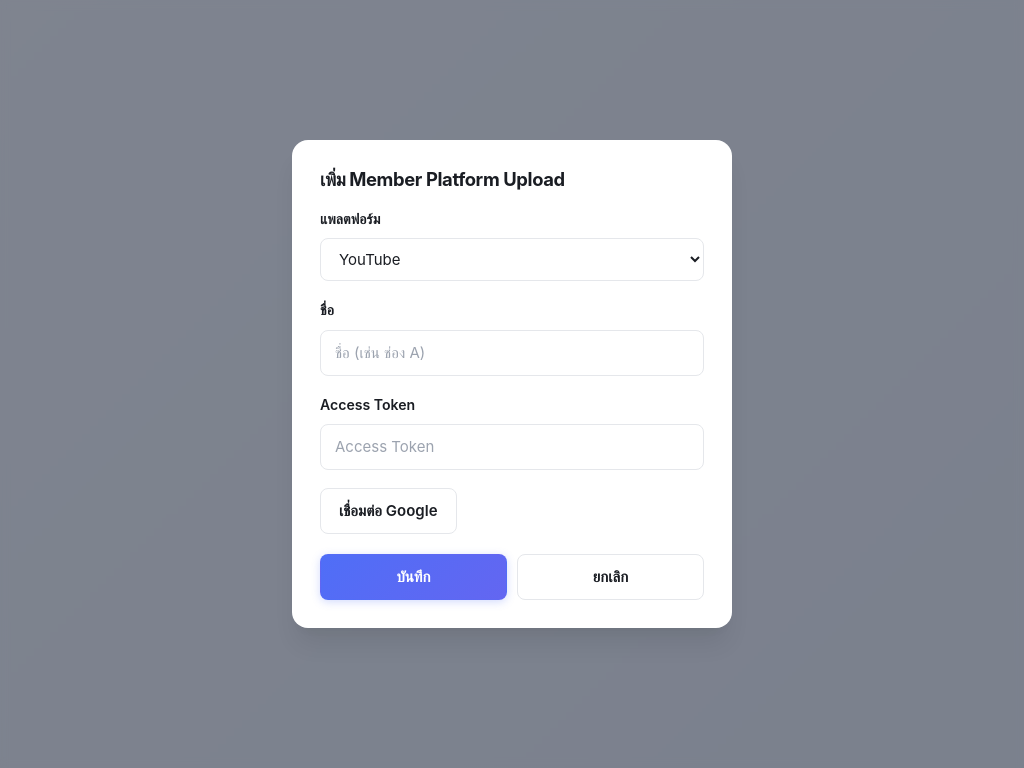
Test: DestinationForm › shows connect button for YouTube and Page ID for Facebook
The width and height of the screenshot is (1024, 768).
expect the button "เชื่อมต่อ Google" is shown: met, box [320,488,456,534]
expect the field with placeholder "Page ID" is not shown: met
Select "Facebook" in the dropdown at (512, 260), box [320,238,704,281]
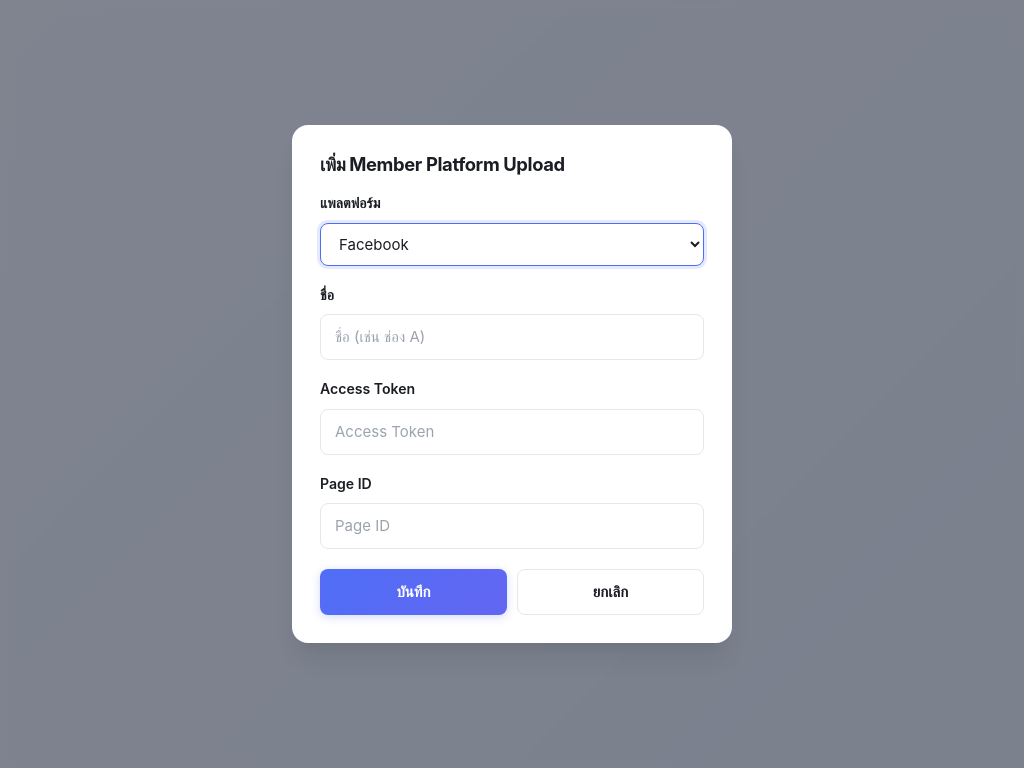
expect the button "เชื่อมต่อ Google" is gone: met
expect the field with placeholder "Page ID" is shown: met, box [320,504,704,550]
